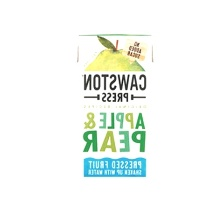carton: (67, 30, 160, 185)
